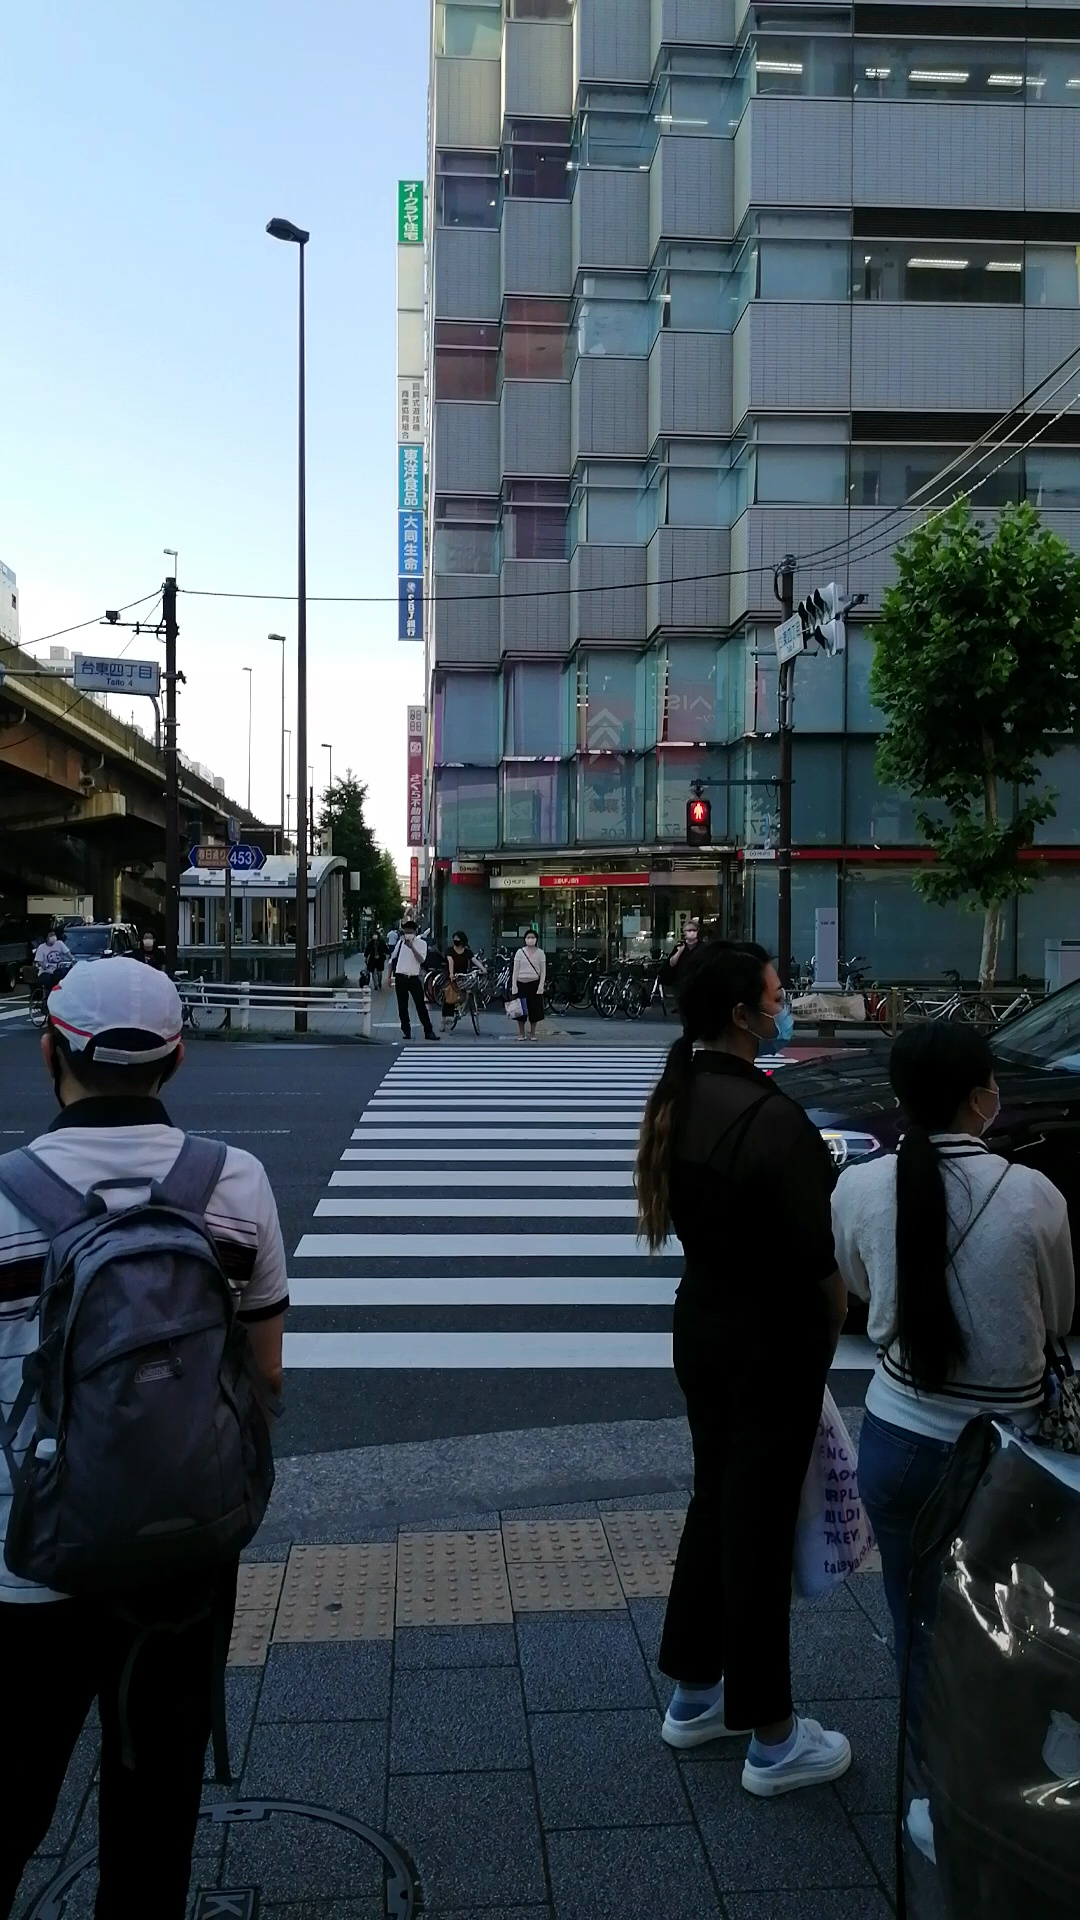red: (684, 795, 711, 848)
